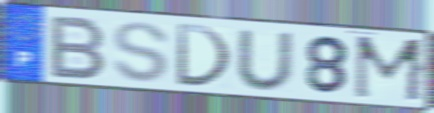8: (304, 33, 351, 96)
B: (47, 14, 109, 81)
D: (173, 21, 235, 90)
M: (351, 34, 428, 105)
S: (111, 20, 172, 85)
U: (234, 28, 296, 93)
